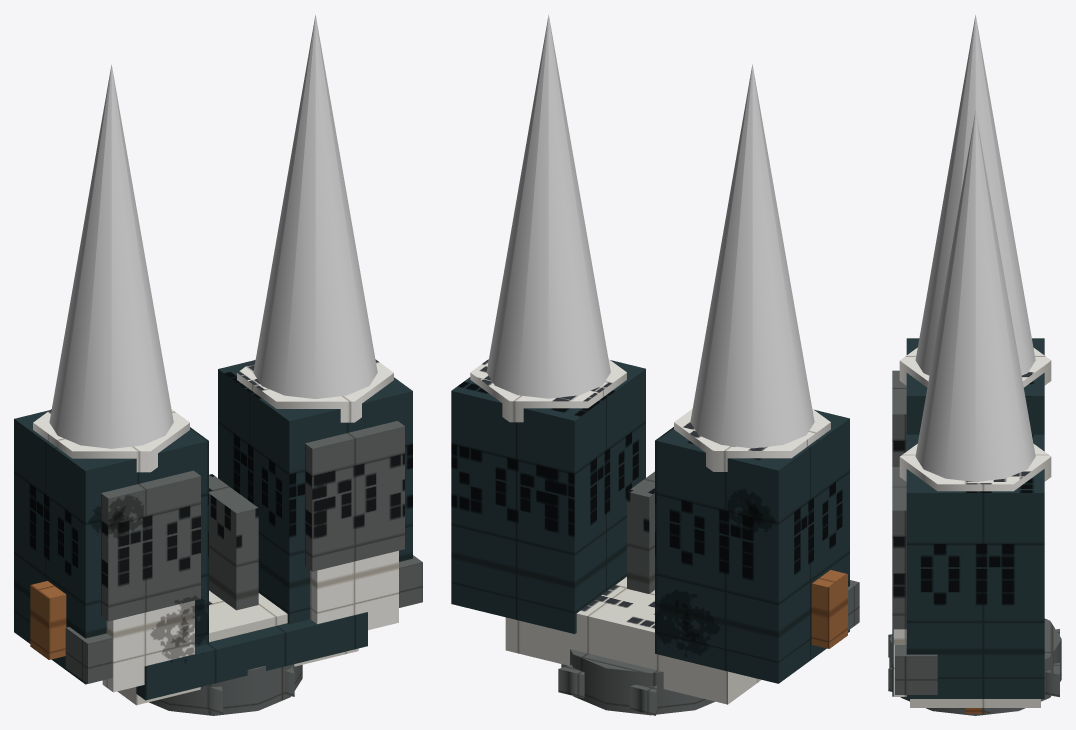
The model's file is drive_stealth_twin.glb.
3 renders of one model, left to right at view 1: azimuth 30°, elevation 25°; view 2: azimuth 150°, elevation 25°; view 3: azimuth 270°, elevation 25°, orthographic. The views are drawn at different scales.
Visible parts, largest first — view 1: flame (×2), merged-263c43, merged-646a6c, merged-171b1e, merged-ededea, merged-ae7040; view 2: merged-263c43, flame (×2), merged-ededea, merged-646a6c, merged-171b1e, merged-ae7040; view 3: flame (×2), merged-263c43, merged-646a6c, merged-171b1e, merged-ededea.
Boxes of the visible parts, x1,y1,x2,y2 form: flame (×2): (49,15,377,448); merged-263c43: (14,360,412,700); merged-646a6c: (65,421,422,715); merged-171b1e: (33,359,398,692); merged-ededea: (117,590,358,705); merged-ae7040: (30,581,66,659); merged-263c43: (451,360,849,683); flame (×2): (486,15,814,448); merged-ededea: (505,577,761,704); merged-646a6c: (558,471,859,715); merged-171b1e: (470,359,830,471); merged-ae7040: (812,570,847,648); flame (×2): (915,15,1035,481); merged-263c43: (892,338,1044,698); merged-646a6c: (888,370,1061,715); merged-171b1e: (893,347,1051,696); merged-ededea: (910,699,1040,707).
Bounding box in the file's own units: 5.64 × 9.89 × 2.52.
Materials: 7 (6 with a texture image).
